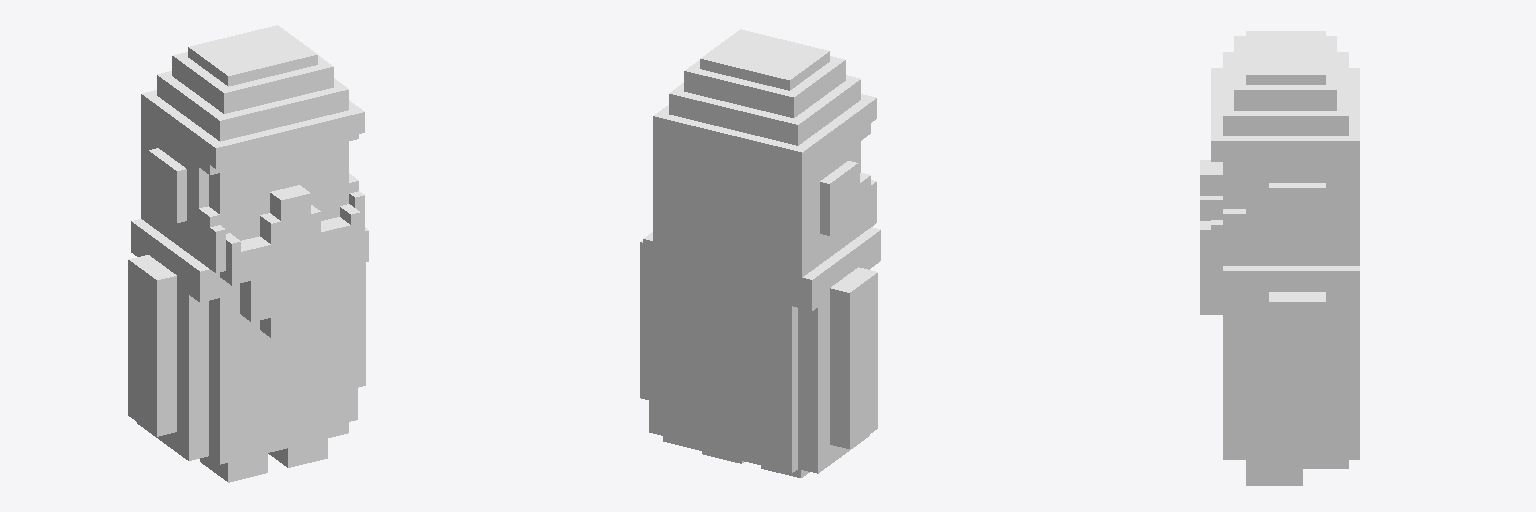
File: redbeard.obj
3 views of the same model, side by side, from view 1: azimuth 30°, elevation 25°; view 2: azimuth 150°, elevation 25°; view 3: azimuth 270°, elevation 25° (orthographic).
Bounding box in the file's own units: 21 × 39 × 14.